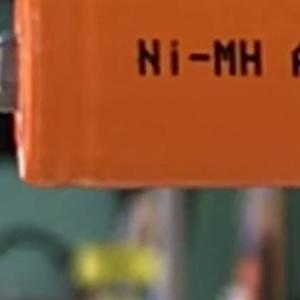keyword: (128, 30, 272, 85)
